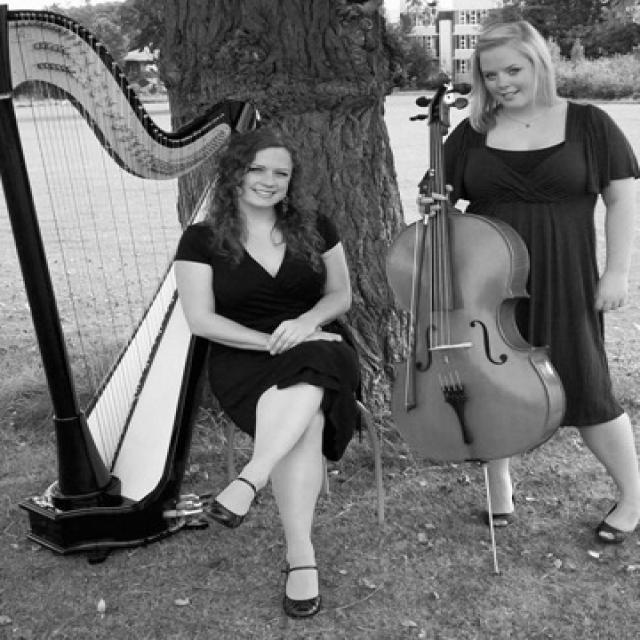cello: (370, 72, 577, 473)
harp: (0, 5, 255, 557)
